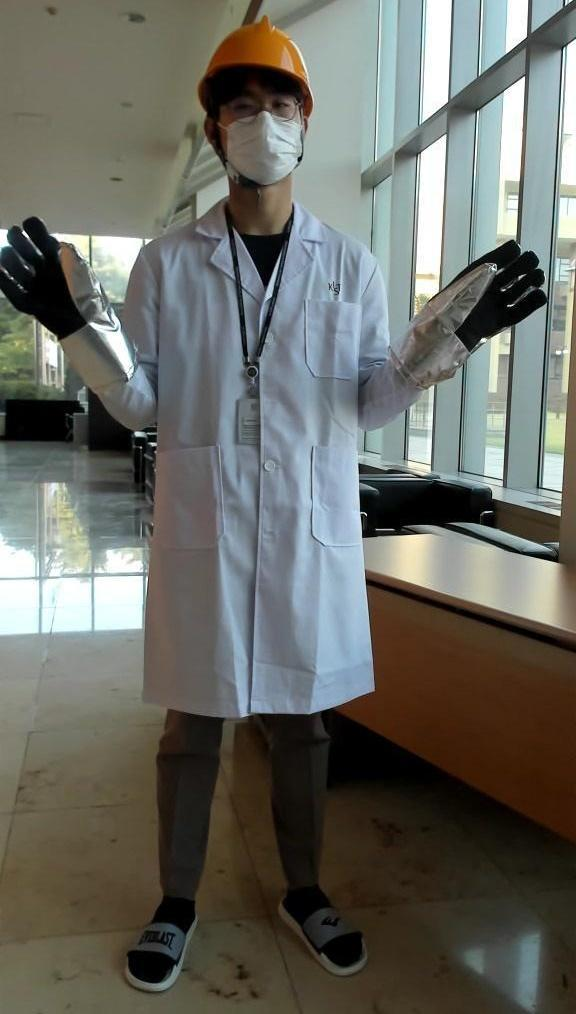lab_coat: (126, 248, 408, 703)
